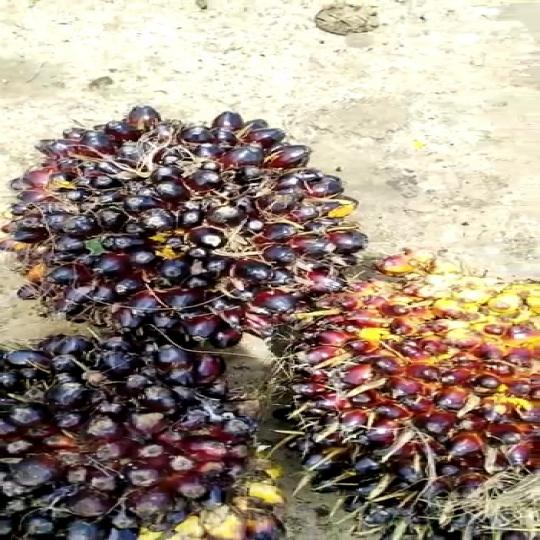mentah: (19, 97, 381, 349), (262, 242, 538, 511), (0, 311, 295, 539)
